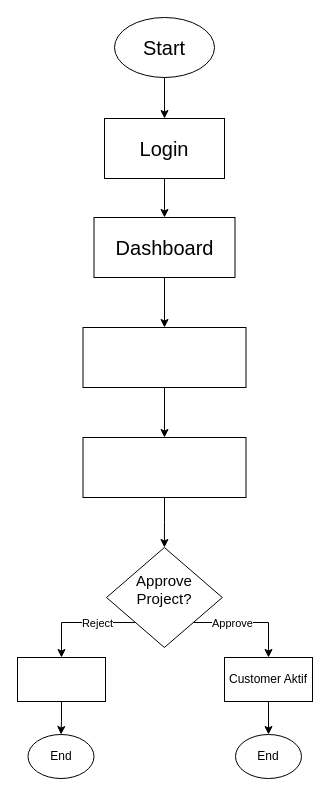
The diagram is 330 pixels wide and 796 high, and some of its shapes have lost their labels. Each missing label, with the centre of its shape:
"Buat Project (proses pengajuan lead menjadi customer)" goes at (x=164, y=467).
"Kelola Lead (kelola data calon customer)" goes at (x=164, y=357).
"Project Rejected" goes at (x=61, y=679).
